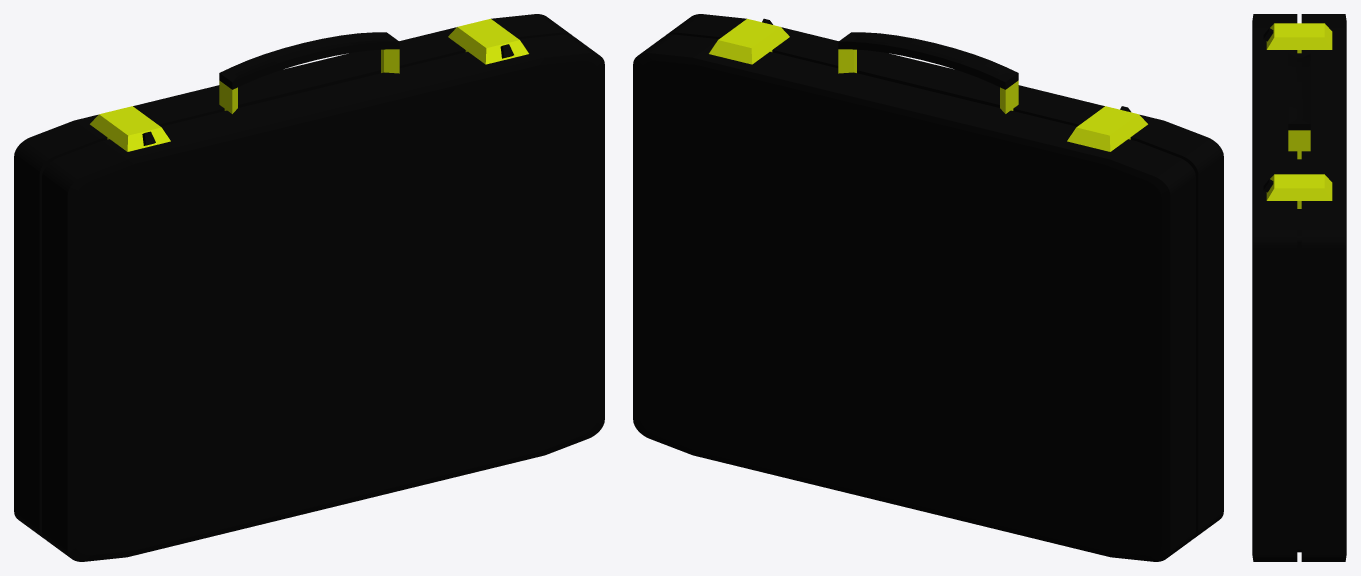
Rendered from agent_bag.fbx.
3 renders of one model, left to right at view 1: azimuth 30°, elevation 25°; view 2: azimuth 150°, elevation 25°; view 3: azimuth 270°, elevation 25°, orthographic. The views are drawn at different scales.
Visible parts, largest first — view 1: Cube; view 2: Cube; view 3: Cube.
Boxes of the visible parts, x1,y1,x2,y2 form: Cube: (14, 14, 604, 561); Cube: (633, 14, 1223, 561); Cube: (1252, 14, 1346, 561).
Bounding box in the file's own units: 200 × 159 × 35.24.
